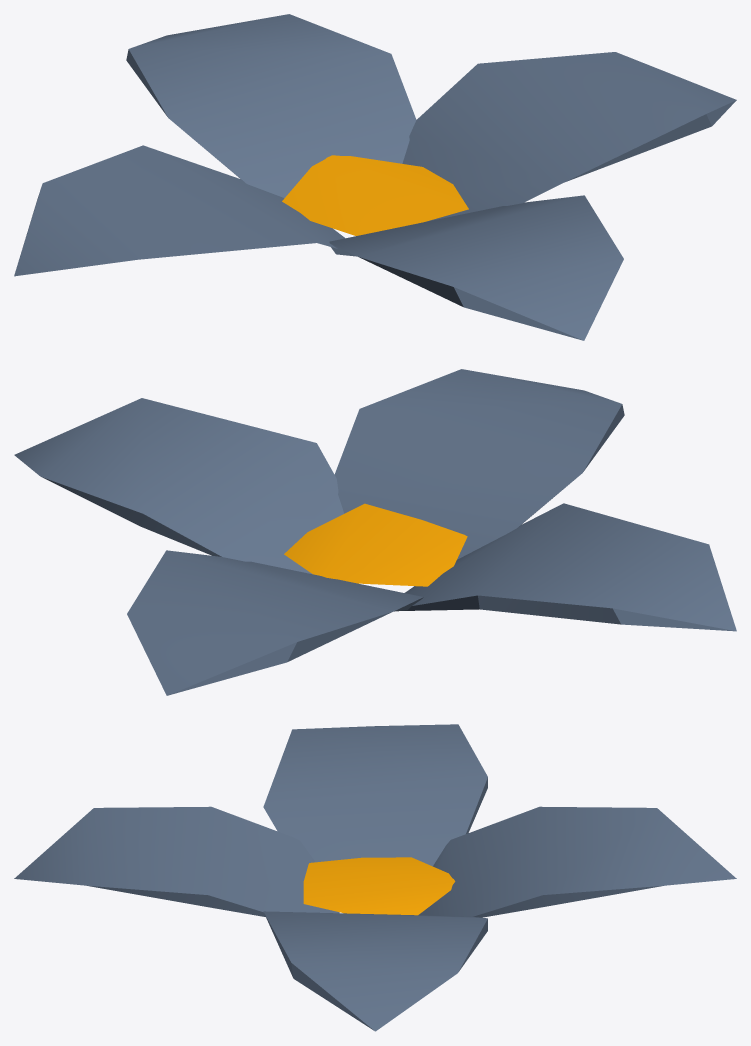
Rendered from Flower_01.fbx.
3 renders of one model, top to bottom at view 1: azimuth 30°, elevation 25°; view 2: azimuth 150°, elevation 25°; view 3: azimuth 270°, elevation 25°, orthographic. The views are drawn at different scales.
Parts seen in each view (by area): view 1: Flower_01; view 2: Flower_01; view 3: Flower_01.
Boxes of the visible parts, x1,y1,x2,y2 form: Flower_01: [14, 14, 736, 340]; Flower_01: [14, 369, 736, 695]; Flower_01: [14, 724, 736, 1031].
Bounding box in the file's own units: 30.44 × 3.09 × 30.44.
